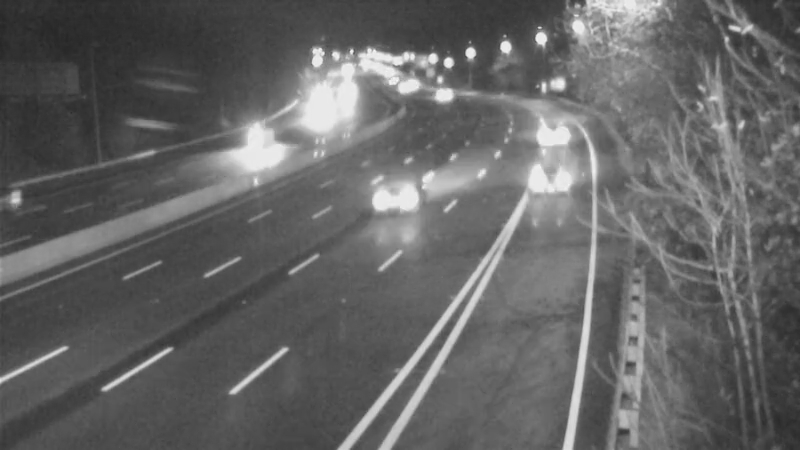vehicle: (511, 140, 591, 220), (352, 159, 432, 239), (1, 155, 66, 235), (413, 68, 463, 118), (517, 109, 567, 159), (232, 124, 282, 174), (293, 92, 343, 142)
